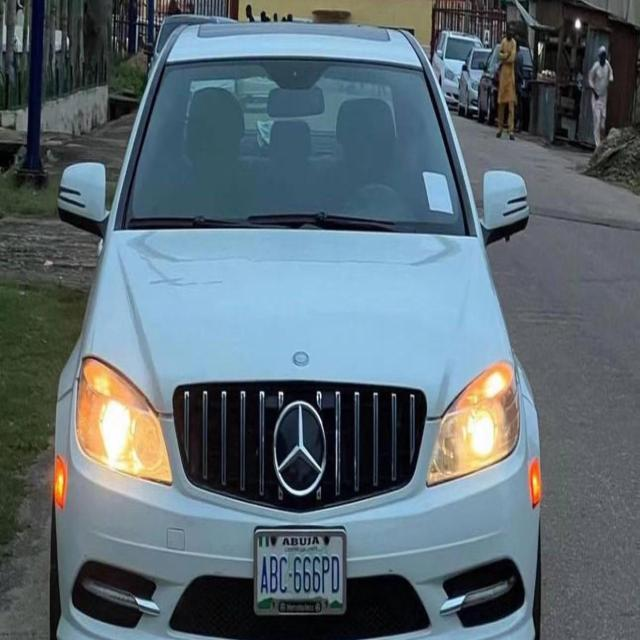Nigerian License Plate - vdataset benjamin-daria: (254, 528, 346, 616)
